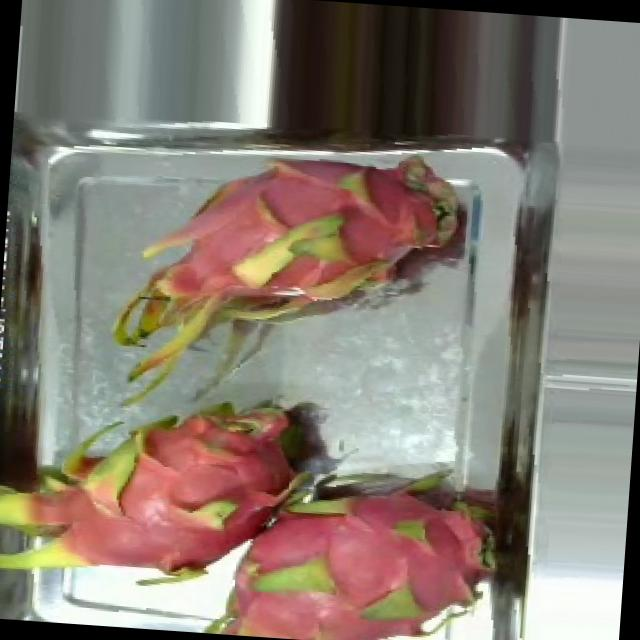Fruit: (96, 391, 306, 549)
